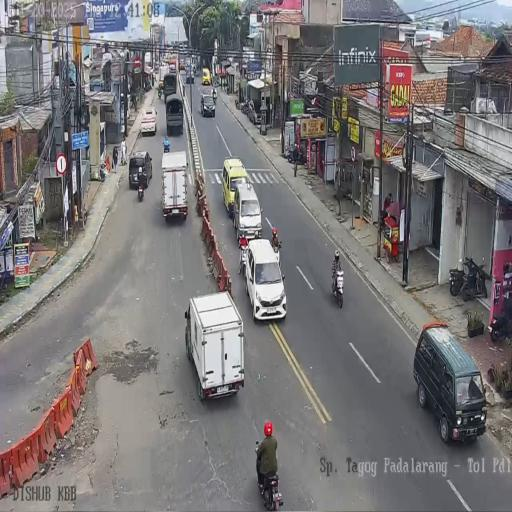car: (411, 323, 484, 443), (241, 238, 286, 320), (221, 156, 249, 220), (129, 151, 153, 190), (140, 107, 157, 136), (200, 90, 215, 118), (247, 100, 261, 124), (202, 68, 212, 86), (186, 66, 194, 84), (152, 65, 160, 83), (162, 54, 170, 66)
motorcycle: (448, 252, 488, 302), (256, 444, 283, 512), (490, 306, 512, 343), (331, 264, 345, 308), (240, 98, 250, 116), (137, 178, 144, 202), (212, 76, 220, 88), (212, 90, 217, 104), (158, 85, 162, 99), (235, 96, 239, 109), (192, 64, 196, 74)
truck: (186, 291, 247, 401), (161, 148, 188, 220), (165, 92, 184, 135), (159, 65, 168, 85), (144, 52, 152, 74), (169, 55, 177, 70), (179, 57, 186, 71)
